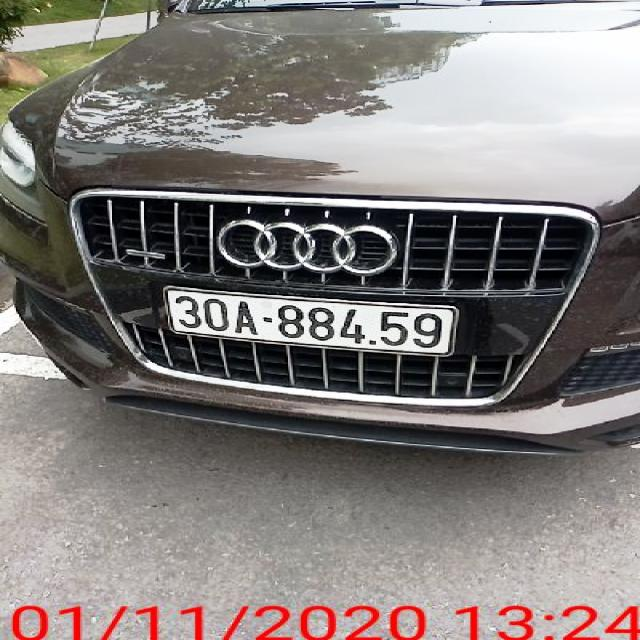license_plate: (166, 288, 464, 358)
